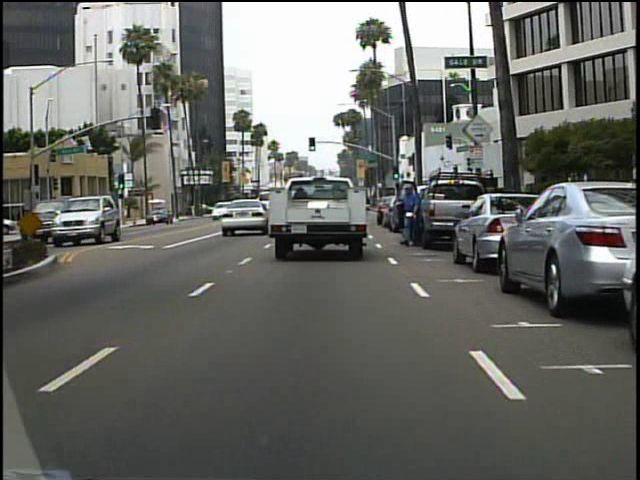person: (396, 182, 423, 247)
